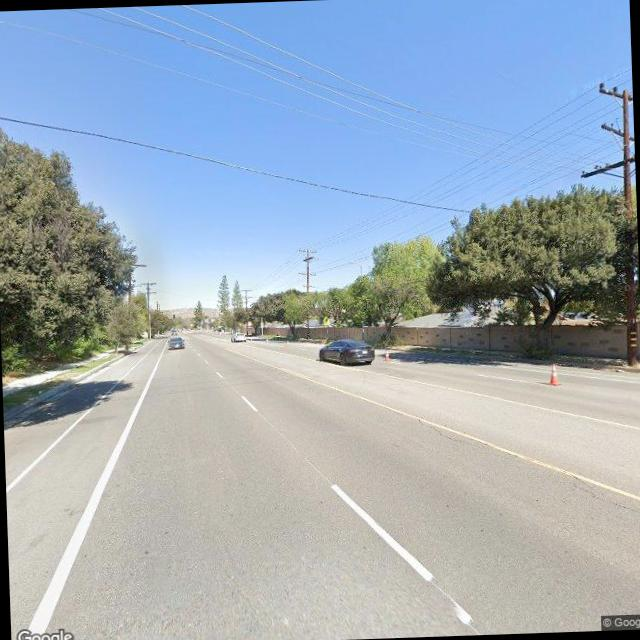pothole: (409, 404, 638, 519)
